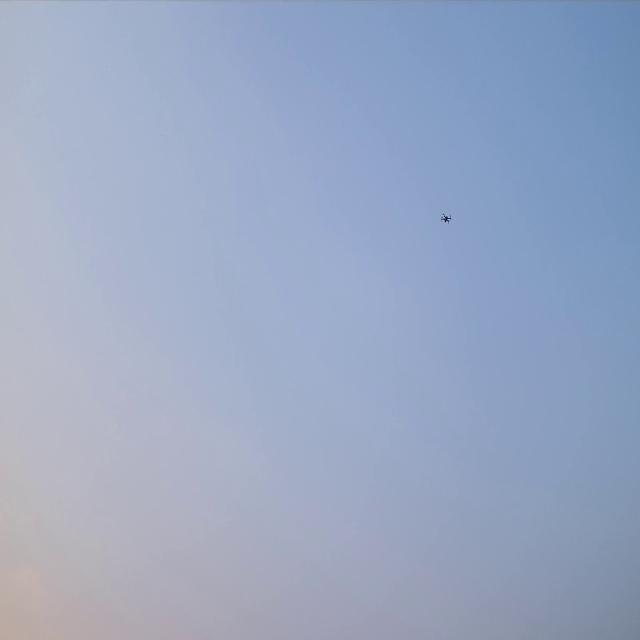UAV: (442, 214, 451, 222)
